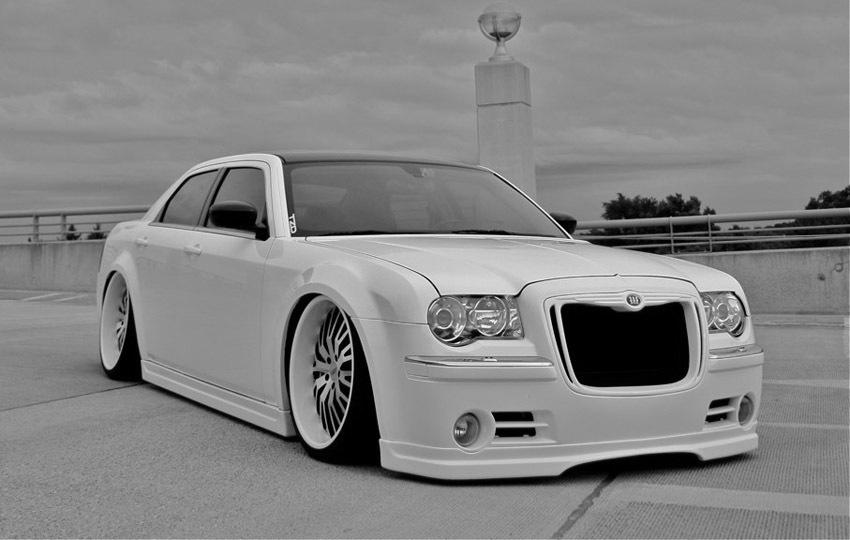car: (96, 150, 768, 490)
